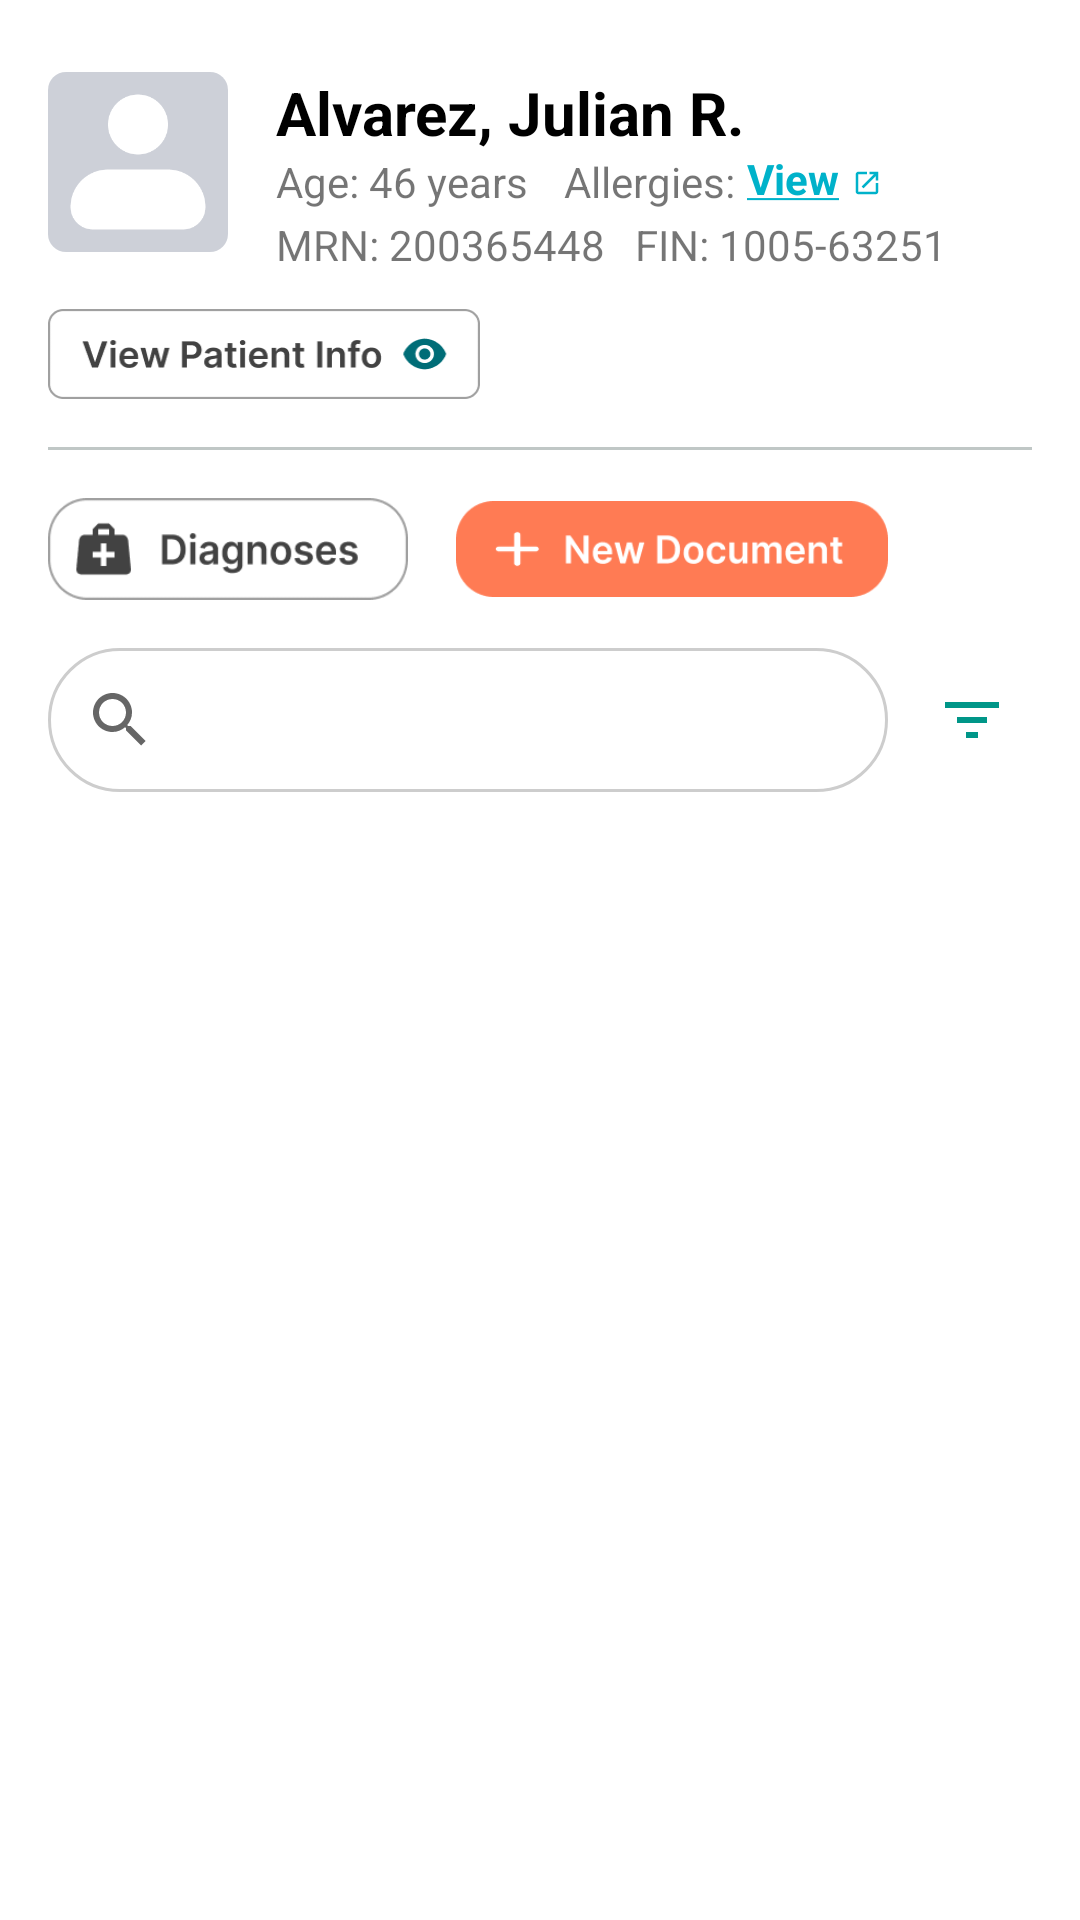

Where icons sit on this 1080*1920 app screen, as BBox(x1, y1, x2, y2):
Filter: BBox(945, 702, 999, 738)
open: BBox(855, 171, 879, 195)
Patient Profile: BBox(48, 72, 228, 252)
